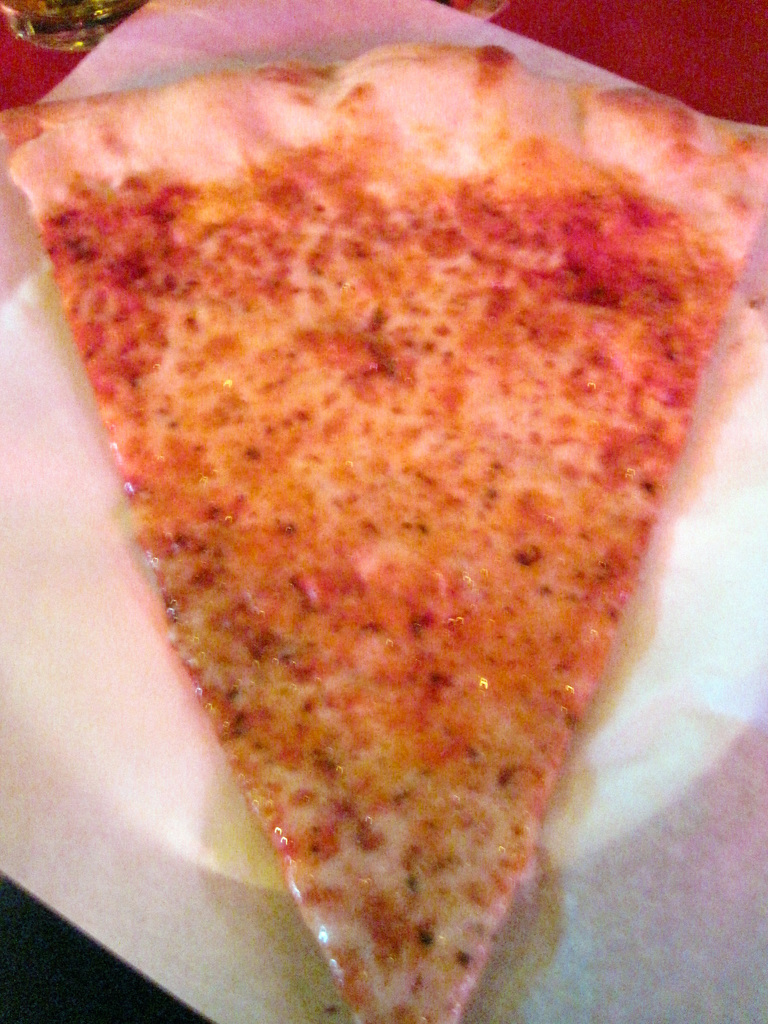Pizza: (49, 0, 741, 1024)
